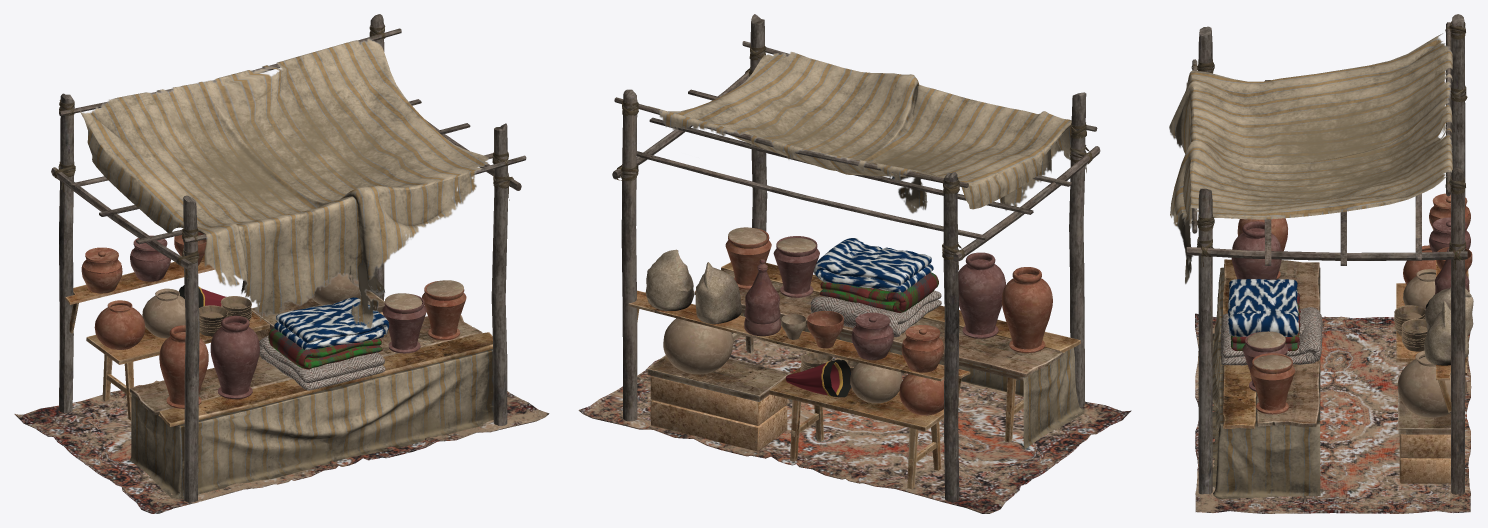
File: xi_dep_tent_shop.gltf
3 views of the same model, side by side, from view 1: azimuth 30°, elevation 25°; view 2: azimuth 150°, elevation 25°; view 3: azimuth 270°, elevation 25° (orthographic). The views are drawn at different scales.
Parts seen in each view (by area): view 1: xi_dep_tent_shop; view 2: xi_dep_tent_shop; view 3: xi_dep_tent_shop.
Boxes of the visible parts, left/top/right/bottom form: xi_dep_tent_shop: left=14, top=14, right=549, bottom=513; xi_dep_tent_shop: left=578, top=14, right=1131, bottom=513; xi_dep_tent_shop: left=1169, top=14, right=1473, bottom=513.
Bounding box in the file's own units: 3.56 × 2.72 × 2.36.
Materials: 2 (2 with a texture image).
